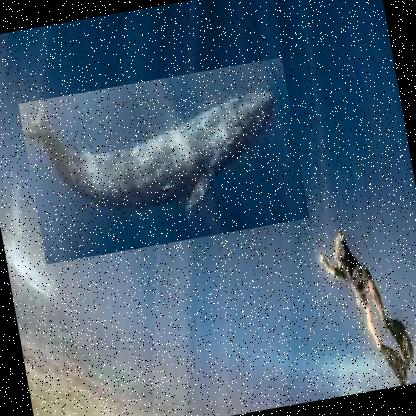blue_whale: (17, 56, 309, 264)
